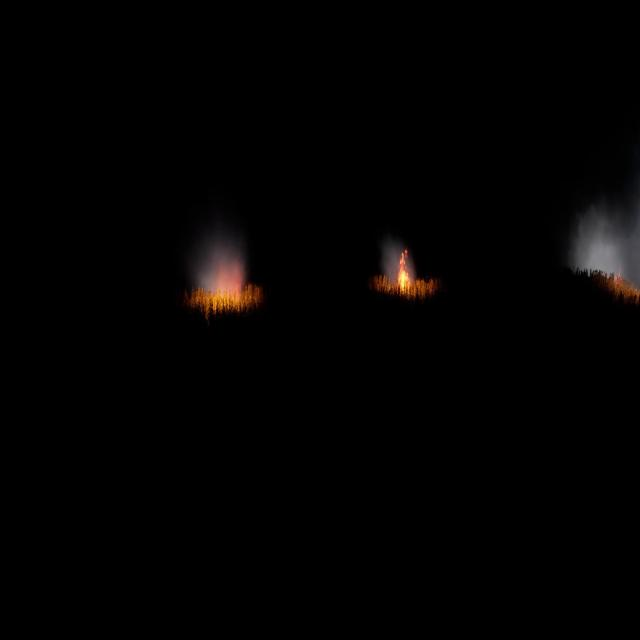fire: (397, 248, 407, 289)
smoke: (570, 200, 640, 284), (194, 243, 251, 298), (382, 242, 418, 288)
